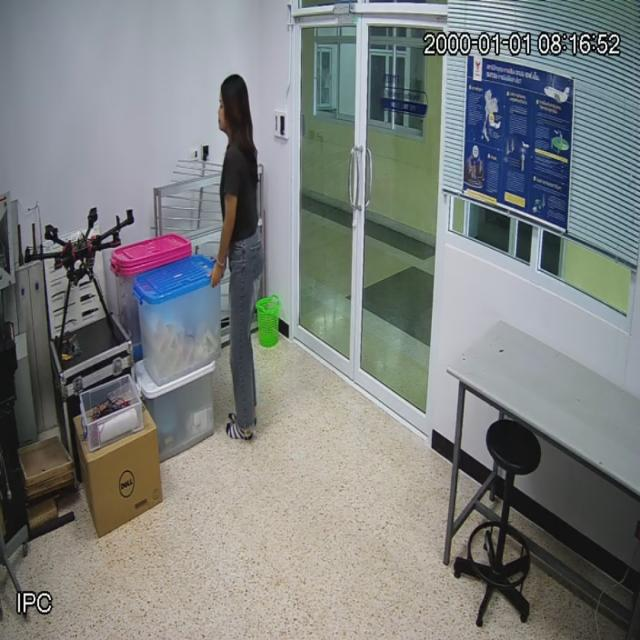normal: (200, 62, 267, 450)
